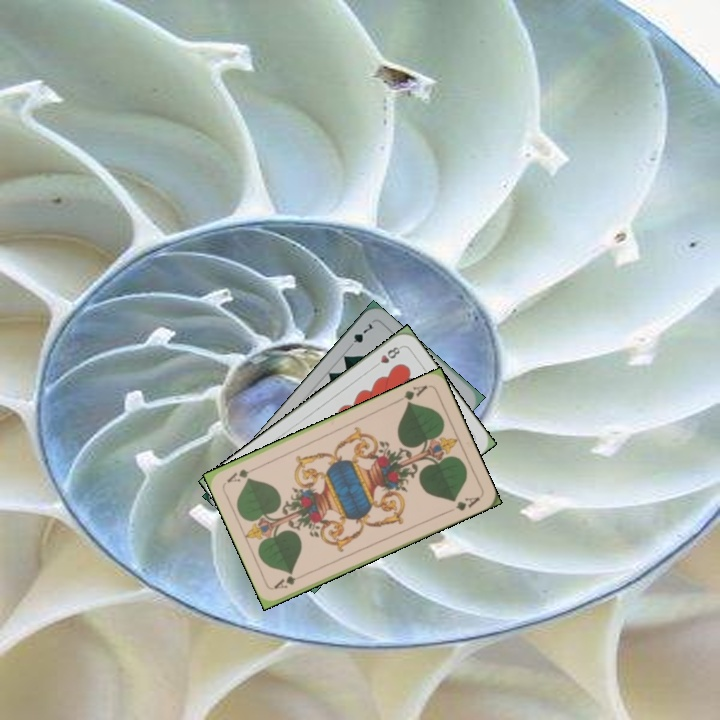G7: (344, 319, 377, 352)
GA: (393, 381, 430, 407), (270, 570, 309, 592)
H8: (369, 343, 404, 371)
